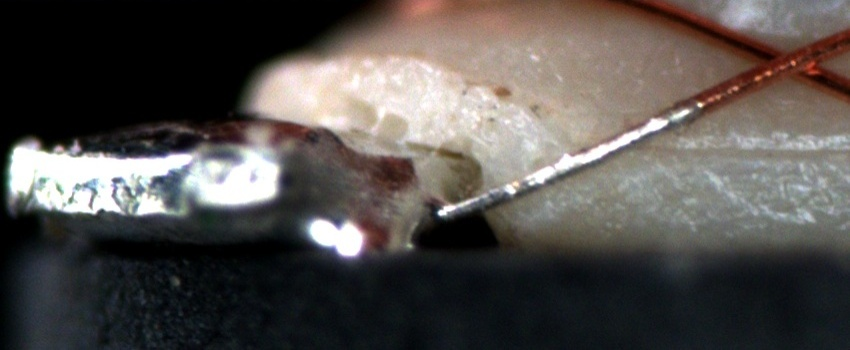CL: (741, 33, 837, 87)
DL: (633, 118, 850, 182)
TS: (435, 94, 702, 224)
